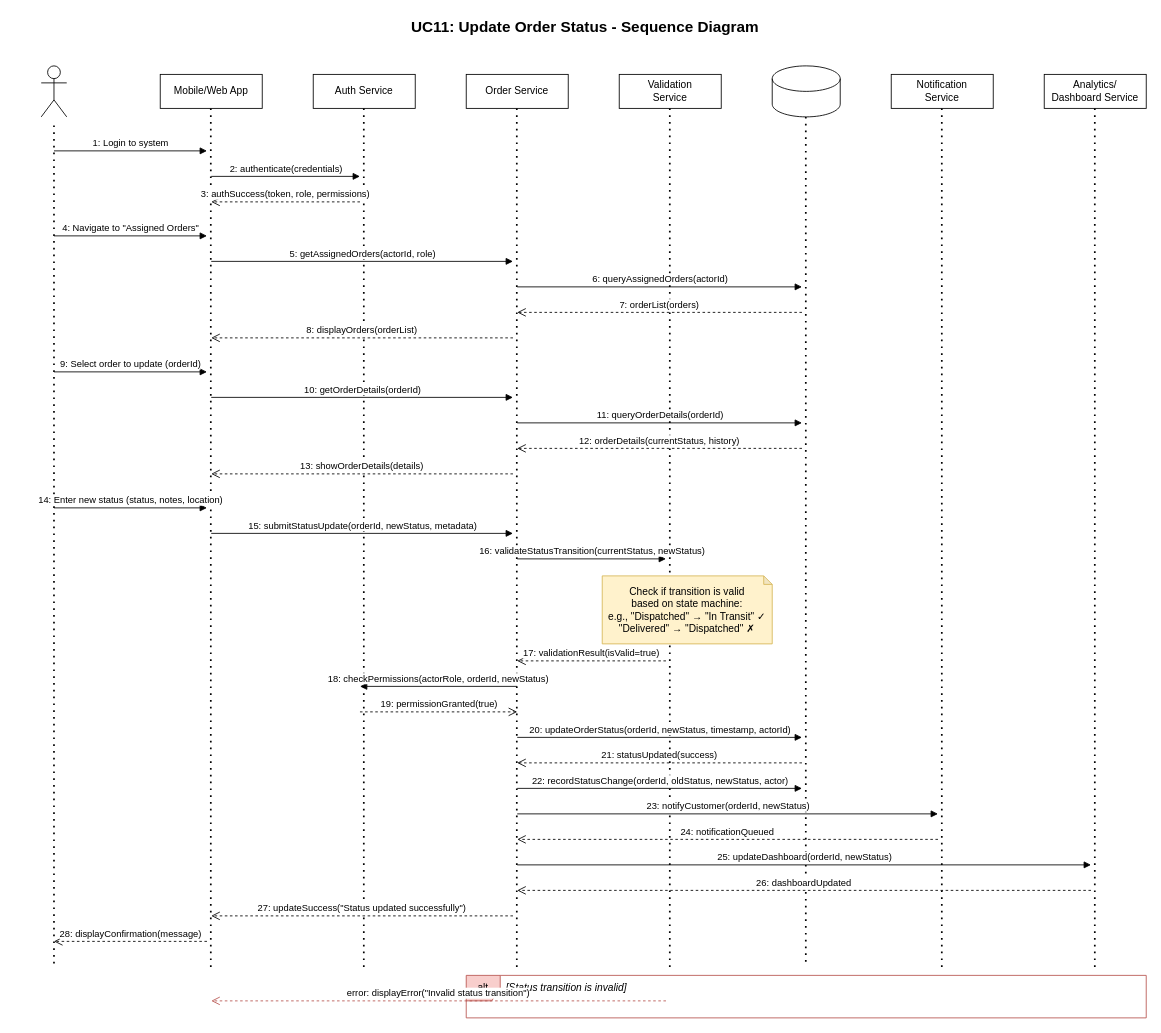
Some shapes in this 1161 by 1033 pixel diagram are drawn without their labels. Each missing label, with the centre of its shape:
"Database" goes at (x=805, y=91).
"Rider/Dispatcher/ Warehouse Staff" goes at (x=53, y=91).
